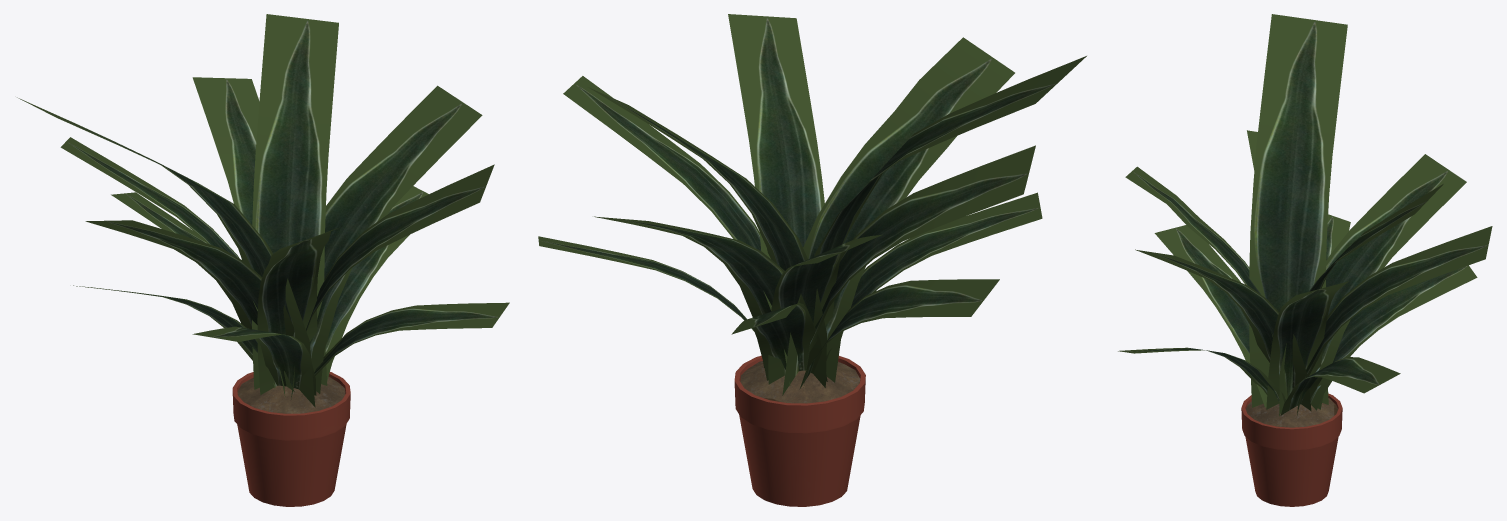
File: plantetest2.glb
3 renders of one model, left to right at view 1: azimuth 30°, elevation 25°; view 2: azimuth 150°, elevation 25°; view 3: azimuth 270°, elevation 25°, orthographic. The views are drawn at different scales.
Visible parts, largest first — view 1: eb_house_plant_02; view 2: eb_house_plant_02; view 3: eb_house_plant_02.
Boxes of the visible parts, x1,y1,x2,y2 form: eb_house_plant_02: [17, 14, 509, 506]; eb_house_plant_02: [538, 14, 1086, 506]; eb_house_plant_02: [1118, 14, 1492, 506].
Bounding box in the file's own units: 59.45 × 56.73 × 51.6.
Materials: 1 (1 with a texture image).
